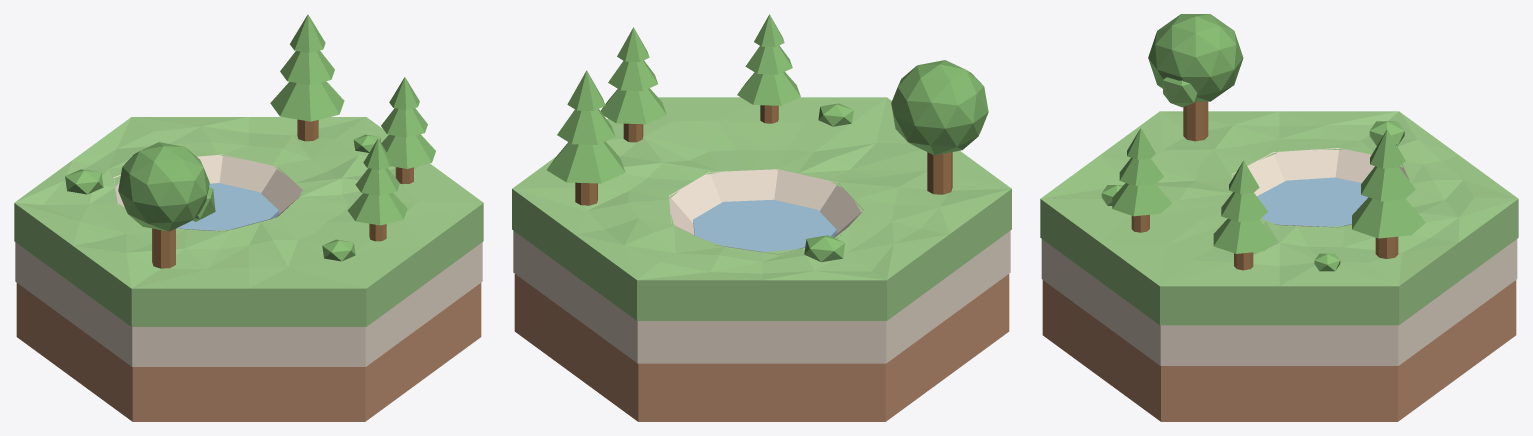
File: paradise-v4.glb
The picture shows the model from 3 angles, left to right: view 1: azimuth 30°, elevation 25°; view 2: azimuth 150°, elevation 25°; view 3: azimuth 270°, elevation 25°; orthographic projection. The views are drawn at different scales.
Visible parts, largest first — view 1: GRASS_top, HEX_brown, HEX_cream, HEX_grass_side, T3_crown, POND_walls, POND_water, T0_tier_0, T2_tier_0, T1_tier_0, T0_tier_1, T1_tier_1 (+8 smaller); view 2: GRASS_top, HEX_brown, HEX_cream, HEX_grass_side, T3_crown, POND_walls, POND_water, T0_tier_0, T1_tier_0, T2_tier_0, T0_tier_1, T1_tier_1 (+8 smaller); view 3: GRASS_top, HEX_brown, HEX_cream, HEX_grass_side, T3_crown, POND_water, POND_walls, T0_tier_0, T1_tier_0, T2_tier_0, T0_tier_1, T1_tier_1 (+8 smaller).
Part boxes in pixels (x1=…): GRASS_top: x1=14, y1=117, x2=483, y2=288; HEX_brown: x1=16, y1=283, x2=481, y2=421; HEX_cream: x1=15, y1=197, x2=482, y2=366; HEX_grass_side: x1=14, y1=199, x2=483, y2=326; T3_crown: x1=118, y1=142, x2=209, y2=231; POND_walls: x1=113, y1=154, x2=304, y2=231; POND_water: x1=177, y1=183, x2=278, y2=230; T0_tier_0: x1=270, y1=81, x2=344, y2=121; T2_tier_0: x1=347, y1=193, x2=407, y2=225; T1_tier_0: x1=381, y1=134, x2=435, y2=168; T0_tier_1: x1=280, y1=50, x2=334, y2=84; T1_tier_1: x1=381, y1=108, x2=427, y2=137; GRASS_top: x1=512, y1=97, x2=1011, y2=280; HEX_brown: x1=514, y1=274, x2=1009, y2=421; HEX_cream: x1=513, y1=230, x2=1010, y2=363; HEX_grass_side: x1=512, y1=189, x2=1011, y2=320; T3_crown: x1=891, y1=60, x2=988, y2=155; POND_walls: x1=669, y1=169, x2=863, y2=254; POND_water: x1=693, y1=199, x2=836, y2=251; T0_tier_0: x1=547, y1=141, x2=625, y2=183; T1_tier_0: x1=600, y1=88, x2=666, y2=124; T2_tier_0: x1=737, y1=72, x2=800, y2=105; T0_tier_1: x1=557, y1=109, x2=615, y2=144; T1_tier_1: x1=608, y1=60, x2=657, y2=91; GRASS_top: x1=1040, y1=111, x2=1518, y2=286; HEX_brown: x1=1042, y1=280, x2=1516, y2=421; HEX_cream: x1=1041, y1=239, x2=1517, y2=365; HEX_grass_side: x1=1040, y1=199, x2=1518, y2=325; T3_crown: x1=1148, y1=14, x2=1243, y2=101; POND_water: x1=1257, y1=177, x2=1367, y2=226; POND_walls: x1=1232, y1=148, x2=1409, y2=227; T0_tier_0: x1=1352, y1=197, x2=1425, y2=238; T1_tier_0: x1=1213, y1=219, x2=1276, y2=253; T2_tier_0: x1=1112, y1=183, x2=1171, y2=216; T0_tier_1: x1=1361, y1=166, x2=1415, y2=201; T1_tier_1: x1=1221, y1=192, x2=1267, y2=221.
Bounding box in the file's own units: 1.73 × 1.21 × 2.
